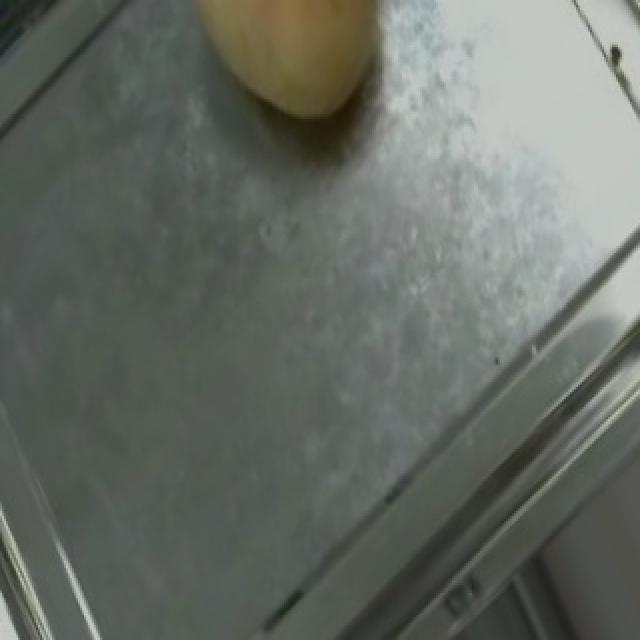Fruit: (150, 0, 426, 156)
